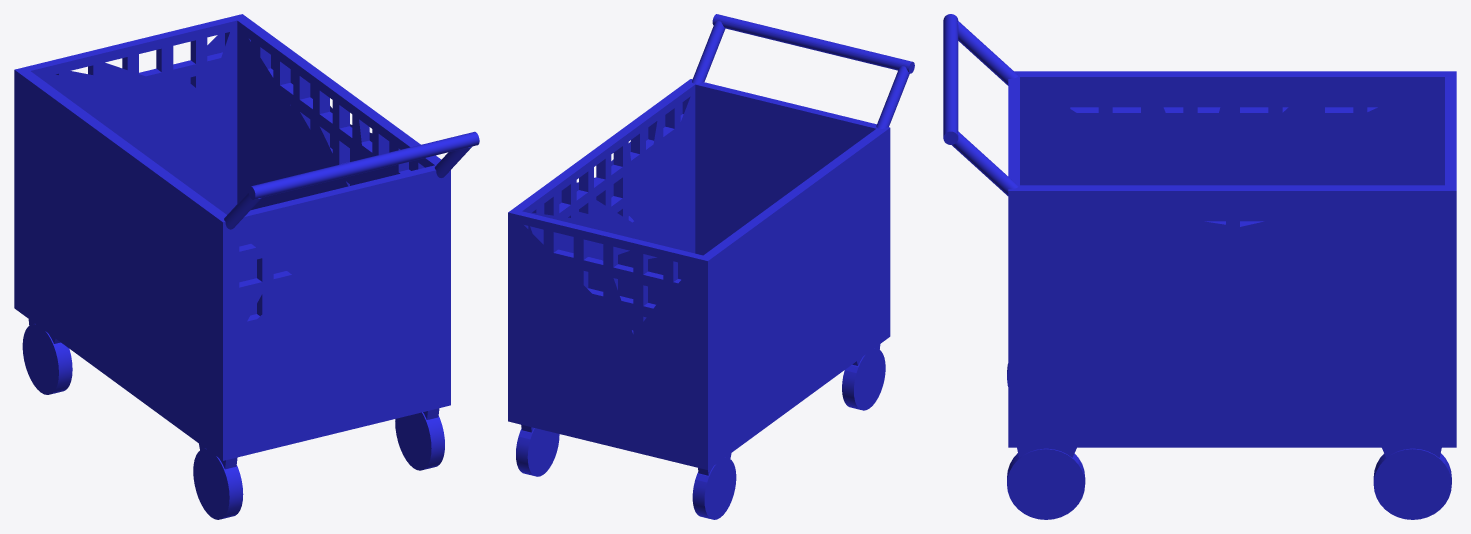
File: shopping_cart.fbx
3 views of the same model, side by side, from view 1: azimuth 30°, elevation 25°; view 2: azimuth 150°, elevation 25°; view 3: azimuth 270°, elevation 25° (orthographic). The views are drawn at different scales.
Visible parts, largest first — view 1: Cylinder; view 2: Cylinder; view 3: Cylinder.
Part boxes in pixels (x1,y1,x2,y2): Cylinder: (14,14,479,519); Cylinder: (508,14,914,519); Cylinder: (943,14,1456,519).
Bounding box in the file's own units: 100 × 152 × 181.
